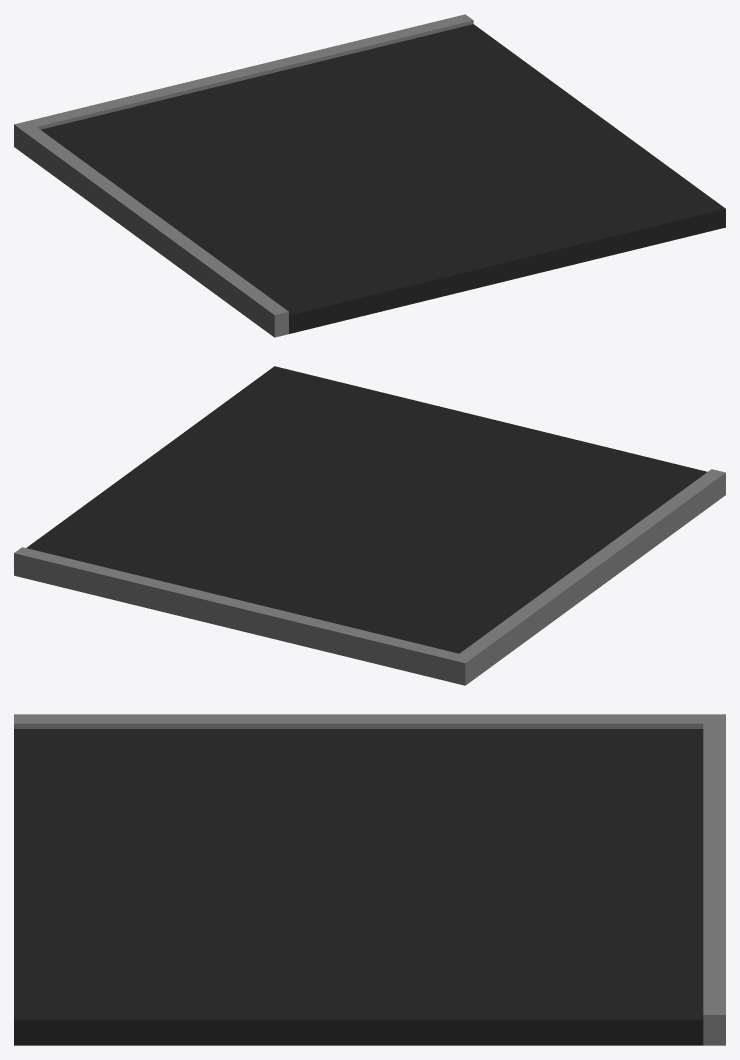
The model's file is StreetBorder1.obj.
The picture shows the model from 3 angles, top to bottom: view 1: azimuth 30°, elevation 25°; view 2: azimuth 150°, elevation 25°; view 3: azimuth 270°, elevation 25°; orthographic projection. The views are drawn at different scales.
Bounding box in the file's own units: 12.6 × 0.6 × 12.6.
Materials: 1 (1 with a texture image).
